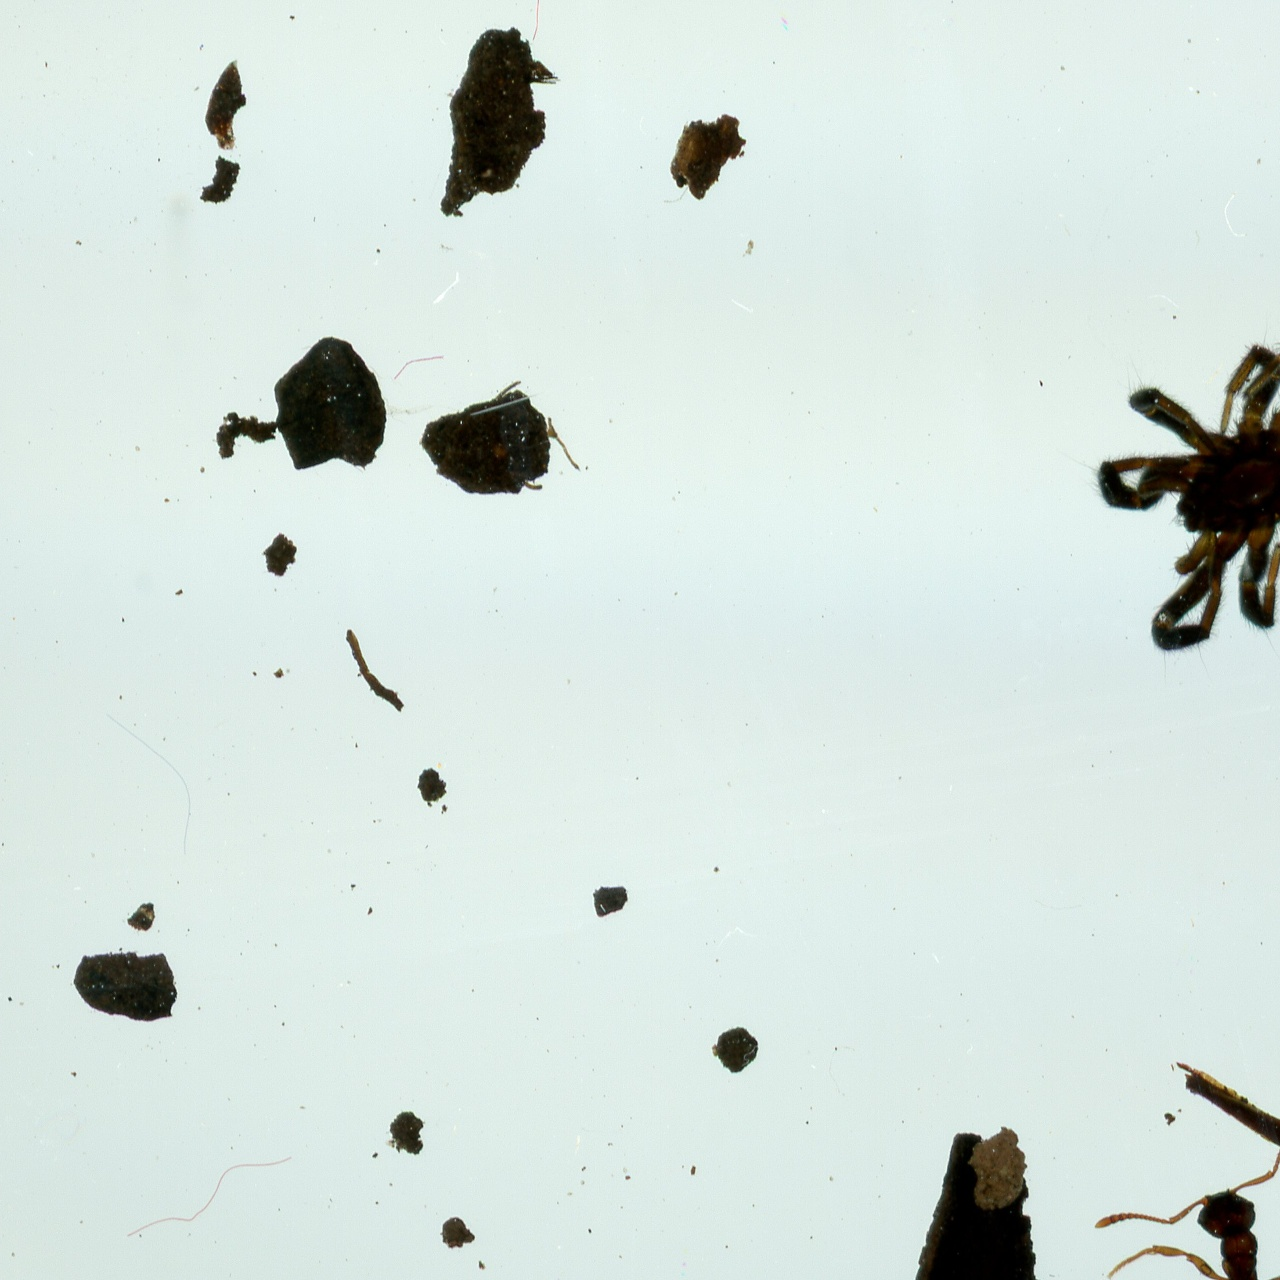arthropod: (982, 204, 1280, 741), (1091, 1105, 1280, 1280)
